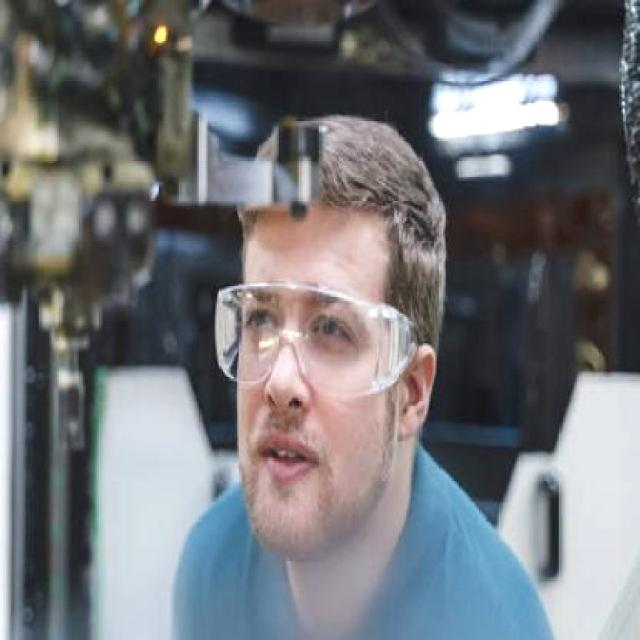face_nomask: (227, 291, 370, 509)
glasses: (214, 280, 415, 402)
head_nohelmet: (231, 121, 437, 257)
person: (164, 109, 498, 640)
